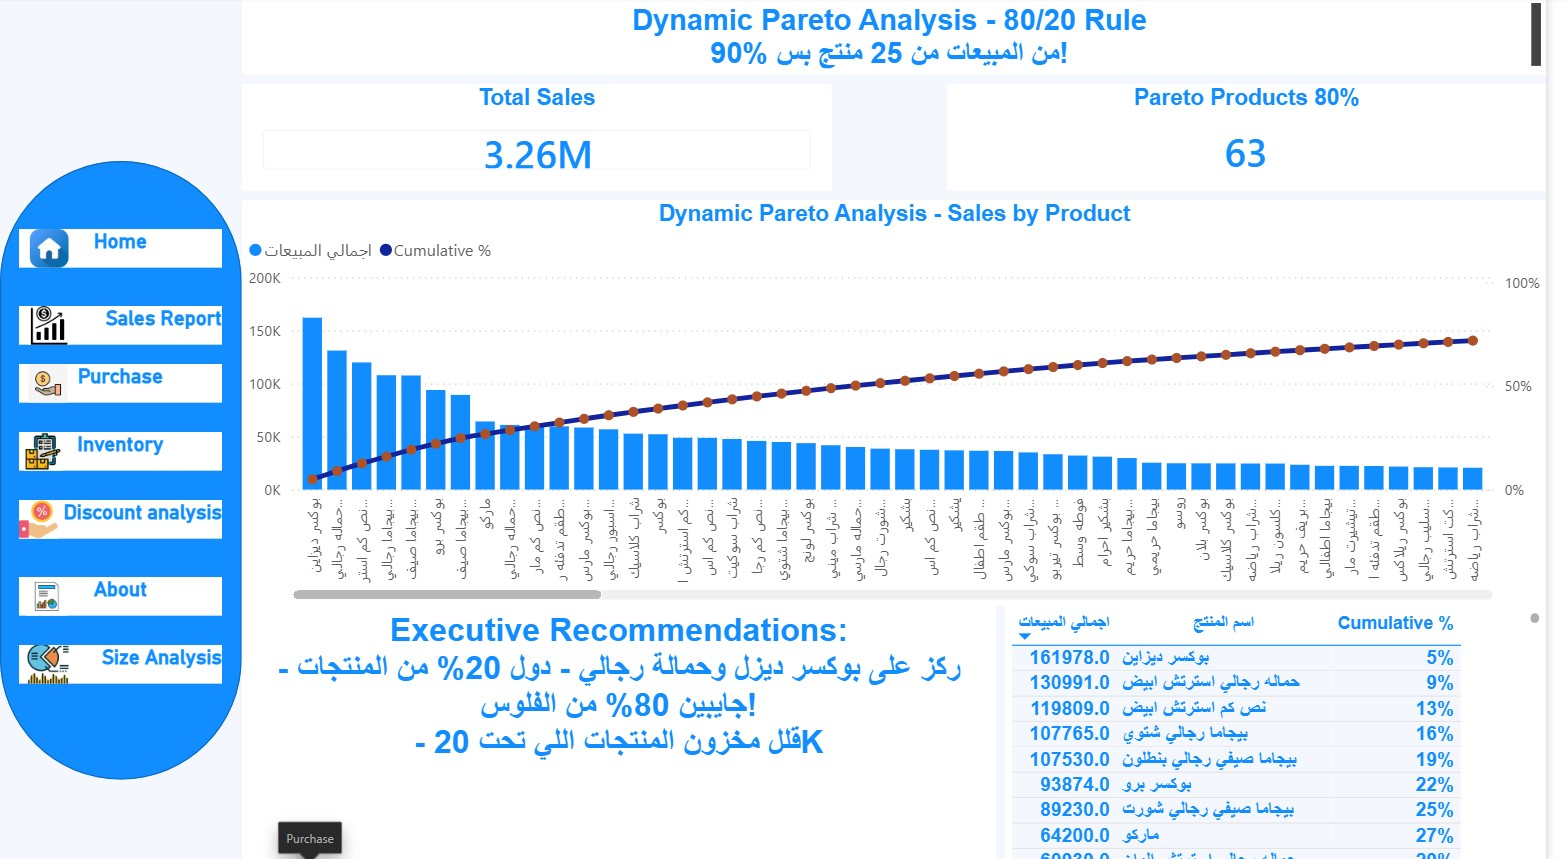

Layout of this report page (visuals, bound fields, positions):
{"tool":"powerbi","page":{"name":"Pareto","canvas":[1280,720],"ordinal":5},"visuals":[{"type":"textbox","box":[200,0,1080,64],"z":0},{"type":"actionButton","title":"About ","box":[16,480,168,32],"z":0,"group":"g7"},{"type":"actionButton","title":"Size Analysis","box":[16,536,168,32],"z":0,"group":"g8"},{"type":"lineClusteredColumnComboChart","title":"Dynamic Pareto Analysis - Sales by Product","fields":{"Category":["DIM_Product.اسم المنتج"],"Y2":["measer.Cumulative %"],"Y":["Sales measures.اجمالي المبيعات"]},"box":[200,168,1080,336],"z":1000},{"type":"image","box":[16,480,45.8,32],"z":1000,"group":"g7"},{"type":"image","box":[16,536,48,32],"z":1000,"group":"g8"},{"type":"cardVisual","title":"Pareto Products 80%","fields":{"Data":["measer.Pareto Products 80% Count"]},"box":[784,72,496,88],"z":2000},{"type":"tableEx","fields":{"Values":["Sales measures.اجمالي المبيعات","DIM_Product.اسم المنتج","measer.Cumulative %"]},"box":[832,504,448,216],"z":3000},{"type":"textbox","box":[200,504,624,216],"z":4000},{"type":"cardVisual","title":"Total Sales","fields":{"Data":["Sales measures.اجمالي المبيعات"]},"box":[200,72,488,88],"z":5000},{"type":"group","id":"g1","title":"Group 1","box":[16,256,168,32],"z":5000,"group":"g3"},{"type":"shape","box":[0,136,200,512],"z":6000},{"type":"image","box":[16,256,50.4,32],"z":6000,"group":"g3"},{"type":"group","id":"g2","title":"Group 1","box":[16,192,168,32],"z":7000},{"type":"actionButton","title":" Purchase","box":[16,304,168,32],"z":7000,"group":"g4"},{"type":"actionButton","title":"Home","box":[16,192,168,32],"z":8000,"group":"g2"},{"type":"group","id":"g3","title":"Group 2","box":[16,256,168,32],"z":8000},{"type":"actionButton","title":"Sales Report","box":[16,256,168,32],"z":8000,"group":"g1"},{"type":"image","box":[16,304,48,32],"z":8000,"group":"g4"},{"type":"image","box":[16,192,50.4,32],"z":9000,"group":"g2"},{"type":"group","id":"g4","title":"Group 3","box":[16,304,168,32],"z":9000},{"type":"actionButton","title":"Inventory ","box":[16,360,168,32],"z":9000,"group":"g5"},{"type":"group","id":"g5","title":"Group 4","box":[16,360,168,32],"z":10000},{"type":"image","box":[16,360,40,32],"z":10000,"group":"g5"},{"type":"group","id":"g6","title":"Group 6","box":[16,416,168,32],"z":11000},{"type":"actionButton","title":"Discount analysis","box":[16,416,168,32],"z":12000,"group":"g6"},{"type":"group","id":"g7","title":"Group 2","box":[16,480,168,32],"z":12000},{"type":"group","id":"g8","title":"Group 6","box":[16,536,168,32],"z":13000},{"type":"image","box":[16,416,32,32],"z":13500,"group":"g6"}]}

Visuals, with their boxes in screenshot pixels (x1, y1, x2, y2), scaled from the page's 1280x720 canvas onto the 1567x859 screenshot:
textbox: [245,0,1566,76]
"About " actionButton: [20,573,225,611]
"Size Analysis" actionButton: [20,639,225,678]
"Dynamic Pareto Analysis - Sales by Product" lineClusteredColumnComboChart: [245,200,1566,601]
image: [20,573,76,611]
image: [20,639,78,678]
"Pareto Products 80%" cardVisual: [960,86,1566,191]
tableEx - Sales measures.اجمالي المبيعات x DIM_Product.اسم المنتج: [1019,601,1566,858]
textbox: [245,601,1009,858]
"Total Sales" cardVisual: [245,86,842,191]
"Group 1" group: [20,305,225,344]
shape: [0,162,245,773]
image: [20,305,81,344]
"Group 1" group: [20,229,225,267]
" Purchase" actionButton: [20,363,225,401]
"Home" actionButton: [20,229,225,267]
"Group 2" group: [20,305,225,344]
"Sales Report" actionButton: [20,305,225,344]
image: [20,363,78,401]
image: [20,229,81,267]
"Group 3" group: [20,363,225,401]
"Inventory " actionButton: [20,430,225,468]
"Group 4" group: [20,430,225,468]
image: [20,430,69,468]
"Group 6" group: [20,496,225,534]
"Discount analysis" actionButton: [20,496,225,534]
"Group 2" group: [20,573,225,611]
"Group 6" group: [20,639,225,678]
image: [20,496,59,534]
